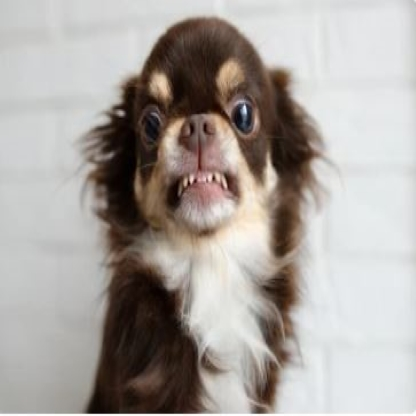chihuahua: (69, 13, 332, 416)
